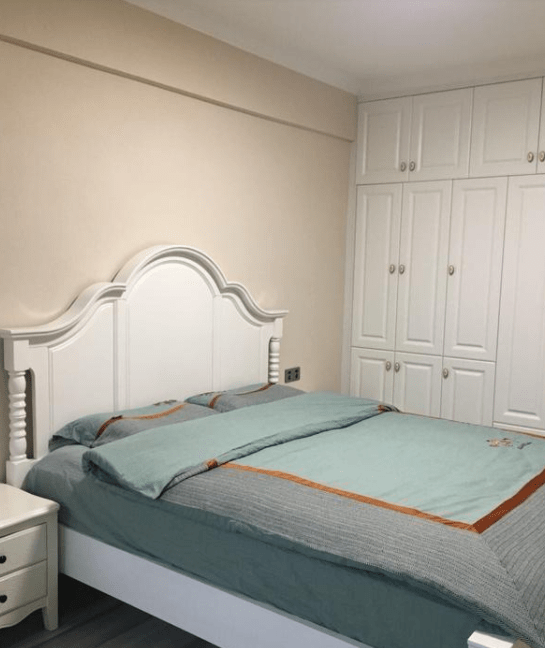床: (9, 388, 542, 648)
